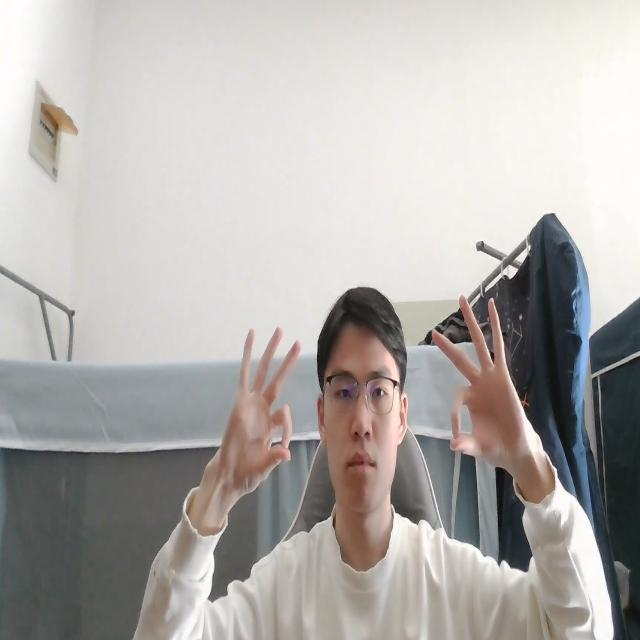ok: (427, 288, 542, 477), (208, 322, 302, 509)
